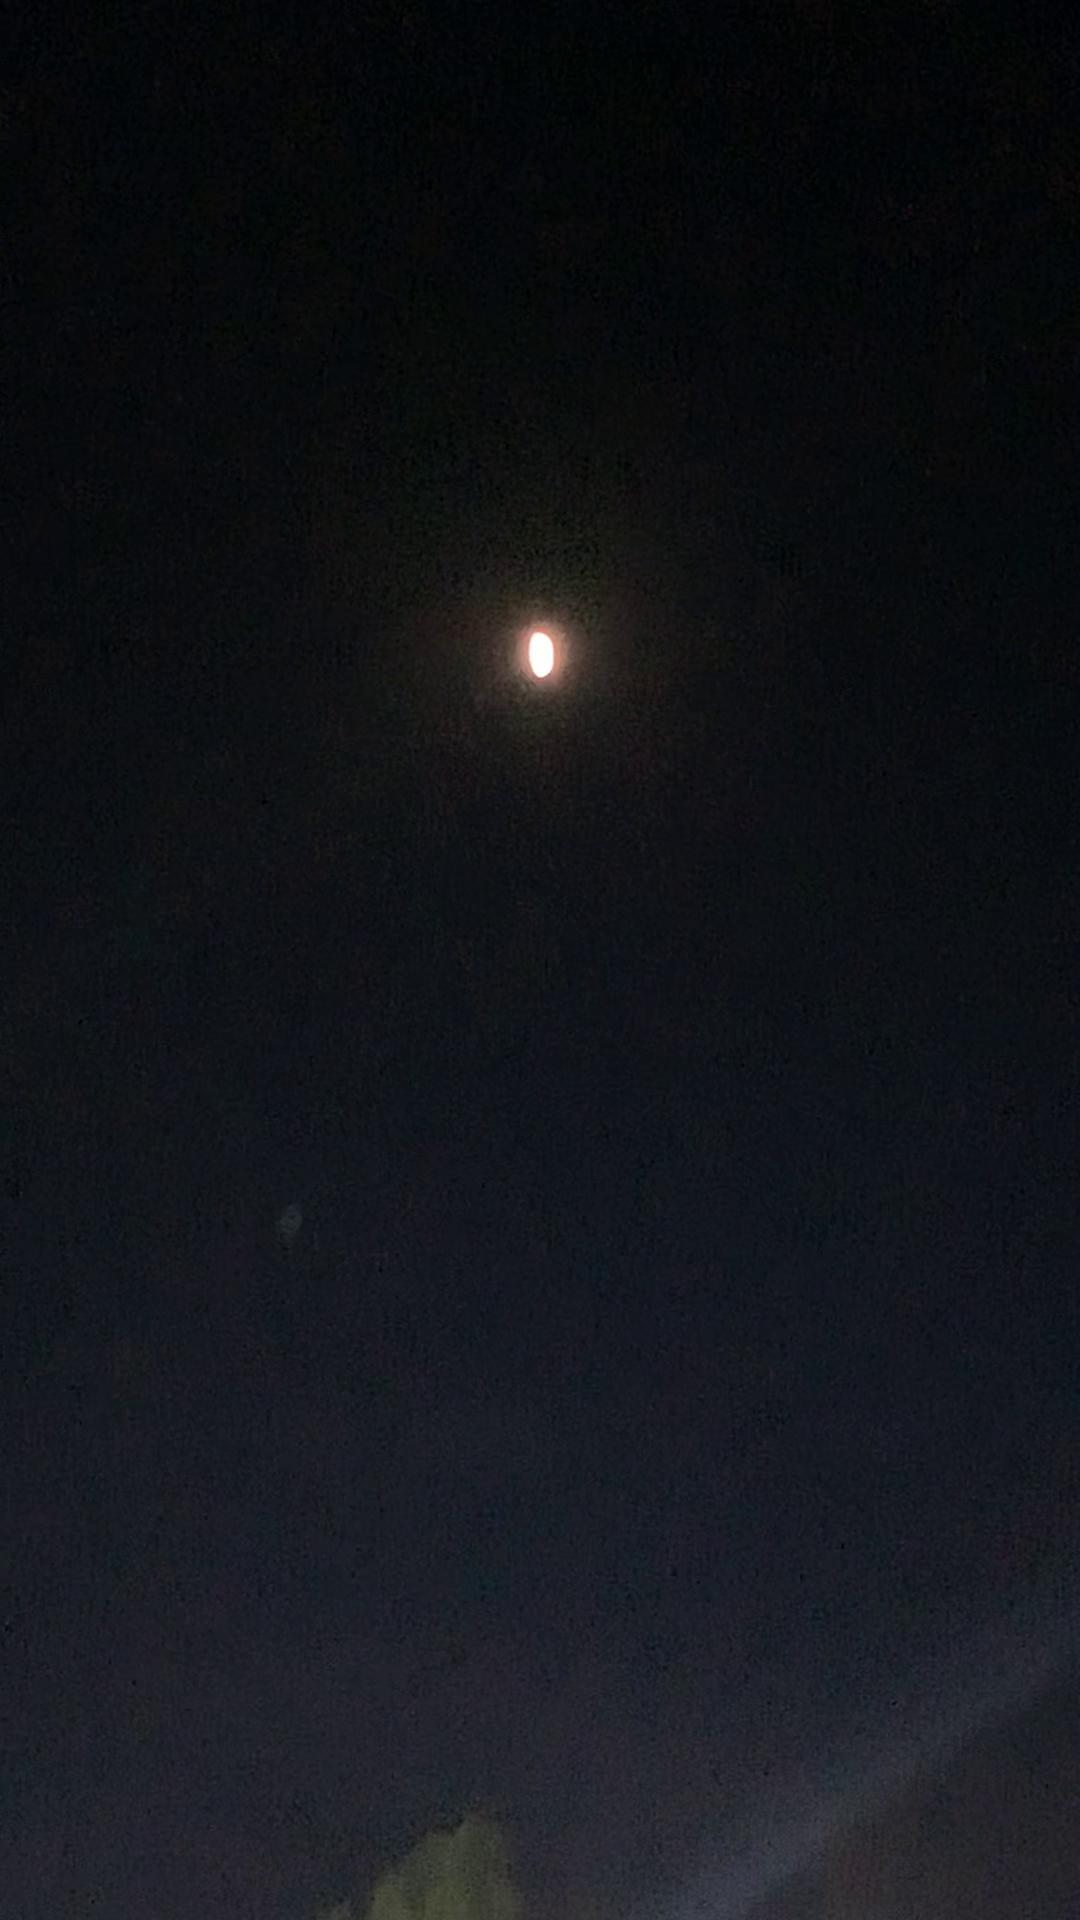moon: (505, 618, 580, 698)
